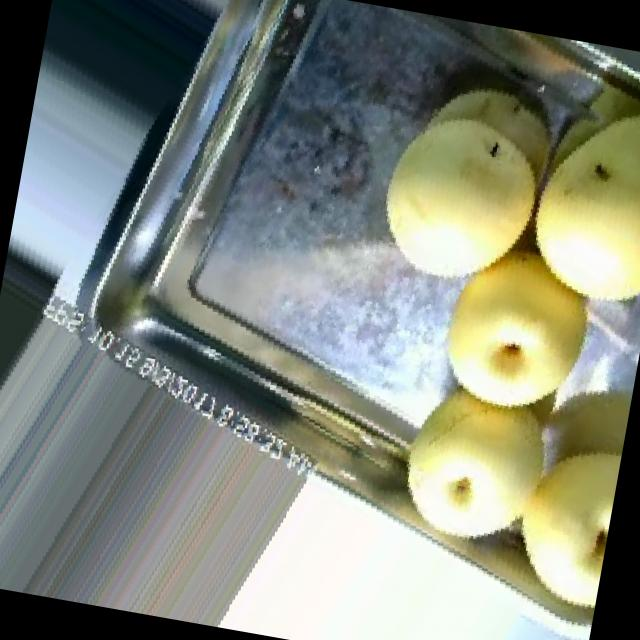Fruit: (344, 44, 574, 320), (402, 210, 634, 442), (368, 344, 596, 554), (504, 65, 640, 336), (481, 407, 626, 615)
